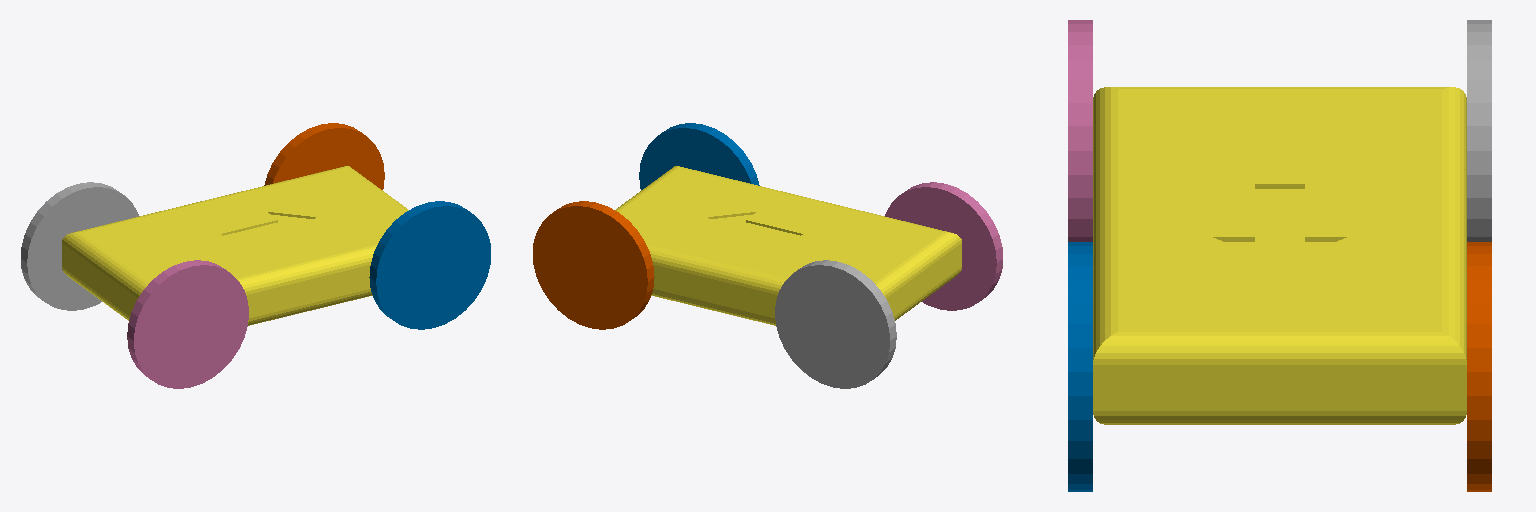
The robot description file, URDF, robot "carwheel_constraint":
<?xml version="1.0" encoding="utf-8"?>
<robot name="carwheel_constraint">

  <link name="world"></link>

  <joint name="virtual_pz_joint" type="prismatic">
      <parent link="world"/>
      <child link="virtual_pz_link"/>
      <origin xyz="0 0 0" rpy="0 0 0"/>
      <axis xyz="0 0 1"/>
      <limit effort="100.0" lower="-10.0" upper="10.0" velocity="1000.0"/>
  </joint>

  <link name="virtual_pz_link">
    <inertial>
      <origin
        xyz="0 0 0"
        rpy="0 0 0" />
      <mass
        value="0.00001" />
      <inertia
        ixx="0.00001"
        ixy="0.0"
        ixz="0.0"
        iyy="0.00001"
        iyz="0.0"
        izz="0.00001" />
    </inertial>
  </link>

  <joint name="virtual_px_joint" type="prismatic">
      <parent link="virtual_pz_link"/>
      <child link="virtual_body"/>
      <origin xyz="0 0 0" rpy="0 0 0"/>
      <axis xyz="1 0 0"/>
      <limit effort="1000.0" lower="-1000.0" upper="1000.0" velocity="1000.0"/>
  </joint>

  <link name="virtual_body">
    <inertial>
      <origin
        xyz="0 0 0"
        rpy="0 0 0" />
      <mass
        value="0.00001" />
      <inertia
        ixx="0.00001"
        ixy="0.0"
        ixz="0.0"
        iyy="0.00001"
        iyz="0.0"
        izz="0.00001" />
    </inertial>
  </link>


  <joint name="virtual_fixed_joint" type="fixed">
      <parent link="virtual_body"/>
      <child link="real_body"/>
  </joint>

  <link name="real_body">
    <inertial>
      <origin
        xyz="0 0 0"
        rpy="0 0 0" />
      <mass
        value="3.94900947494756" />
      <inertia
        ixx="0.00773393995430153"
        ixy="0.0"
        ixz="0.0"
        iyy="0.0207892752411963"
        iyz="0.0"
        izz="0.0275077758026154" />
    </inertial>
    <visual>
      <origin
        xyz="0 0 0"
        rpy="0 0 0" />
      <geometry>
        <mesh filename="package://oatmeal_gazebo/simulation/models/carwheel/meshes/body.STL" />
      </geometry>
    </visual>
    <collision>
      <origin
        xyz="0 0 0"
        rpy="0 0 0" />
      <geometry>
        <mesh filename="package://oatmeal_gazebo/simulation/models/carwheel/meshes/body.STL" />
      </geometry>
    </collision>
  </link>
  <gazebo reference="real_body">
    <material>Gazebo/Orange</material>
  </gazebo>

  <link name="FR">
    <inertial>
      <origin
        xyz="0 0 0"
        rpy="1.5707963267948966 0 0" />
      <mass
        value="0.0482548631591392" />
      <inertia
        ixx="1.97040691233152E-05"
        ixy="0.0"
        ixz="0.0"
        iyy="3.86038905273114E-05"
        iyz="0.0"
        izz="1.97040691233152E-05" />
    </inertial>
    <visual>
      <origin
        xyz="0 0 0"
        rpy="1.5707963267948966 0 0" />
      <geometry>
        <cylinder radius="0.05" length="0.01"/>
        <!-- <mesh filename="package://oatmeal_gazebo/simulation/models/carwheel/meshes/FR.STL" /> -->
      </geometry>
    </visual>
    <collision>
      <origin
        xyz="0 0 0"
        rpy="1.5707963267948966 0 0" />
      <geometry>
        <cylinder radius="0.051" length="0.0001"/>
      </geometry>
    </collision>
  </link>
  <gazebo reference="FR">
    <material>Gazebo/Blue</material>
  </gazebo>

  <joint
    name="Joint_FR"
    type="revolute">
    <origin
      xyz="0.095 -0.08 0"
      rpy="0 0 0" />
    <parent
      link="real_body" />
    <child
      link="FR" />
    <axis
      xyz="0 1 0" />
    <limit
      lower="-1000000"
      upper="1000000"
      effort="30"
      velocity="20" />
  </joint>
  <gazebo reference="Joint_FR">
    <kp>1.0</kp>
    <kd>1.0</kd>
    <stopCfm>0.8</stopCfm>
    <stopErp>0.5</stopErp>
    <provideFeedback>true</provideFeedback>
    <!-- Important para to enable ft sensor-->
    <disableFixedJointLumping>true</disableFixedJointLumping>
    <implicitSpringDamper>true</implicitSpringDamper>
    <fudgeFactor>0.0</fudgeFactor>
  </gazebo>

  <link name="FL">
    <inertial>
      <origin
        xyz="0 0 0"
        rpy="0 0 0" />
      <mass
        value="0.0482548631591393" />
      <inertia
        ixx="1.97040691233152E-05"
        ixy="0.0"
        ixz="0.0"
        iyy="3.86038905273114E-05"
        iyz="0.0"
        izz="1.97040691233152E-05" />
    </inertial>
    <visual>
      <origin
        xyz="0 0 0"
        rpy="1.5707963267948966 0 0" />
      <geometry>
        <cylinder radius="0.05" length="0.01"/>
        <!-- <mesh filename="package://oatmeal_gazebo/simulation/models/carwheel/meshes/FL.STL" /> -->
      </geometry>
    </visual>
    <collision>
      <origin
        xyz="0 0 0"
        rpy="1.5707963267948966 0 0" />
      <geometry>
        <cylinder radius="0.051" length="0.0001"/>
      </geometry>
    </collision>
  </link>
  <gazebo reference="FL">
    <material>Gazebo/Green</material>
  </gazebo>

  <joint name="Joint_FL"
    type="revolute">
    <origin
      xyz="0.095 0.08 0"
      rpy="0 0 0" />
    <parent
      link="real_body" />
    <child
      link="FL" />
    <axis
      xyz="0 1 0" />
    <limit
      lower="-1000000"
      upper="1000000"
      effort="30"
      velocity="20" />
  </joint>
  <gazebo reference="Joint_FL">
    <kp>1.0</kp>
    <kd>1.0</kd>
    <stopCfm>0.8</stopCfm>
    <stopErp>0.5</stopErp>
    <provideFeedback>true</provideFeedback>
    <!-- Important para to enable ft sensor-->
    <disableFixedJointLumping>true</disableFixedJointLumping>
    <implicitSpringDamper>true</implicitSpringDamper>
    <fudgeFactor>0.0</fudgeFactor>
  </gazebo>

  <link name="HR">
    <inertial>
      <origin
        xyz="0 0 0"
        rpy="0 0 0" />
      <mass
        value="0.0482548631591392" />
      <inertia
        ixx="1.97040691233152E-05"
        ixy="0.0"
        ixz="0.0"
        iyy="3.86038905273114E-05"
        iyz="0.0"
        izz="1.97040691233152E-05" />
    </inertial>
    <visual>
      <origin
        xyz="0 0 0"
        rpy="1.5707963267948966 0 0" />
      <geometry>
        <cylinder radius="0.05" length="0.01"/>/
        <!-- <mesh filename="package://oatmeal_gazebo/simulation/models/carwheel/meshes/HR.STL" /> -->
      </geometry>
    </visual>
    <collision>
      <origin
        xyz="0 0 0"
        rpy="1.5707963267948966 0 0" />
      <geometry>
        <cylinder radius="0.051" length="0.0001"/>
      </geometry>
    </collision>
  </link>
  <gazebo reference="HR">
    <material>Gazebo/Yellow</material>
  </gazebo>

  <joint name="Joint_HR"
    type="revolute">
    <origin
      xyz="-0.115 -0.08 0"
      rpy="0 0 0" />
    <parent
      link="real_body" />
    <child
      link="HR" />
    <axis
      xyz="0 1 0" />
    <limit
      lower="-1000000"
      upper="1000000"
      effort="30"
      velocity="20" />
  </joint>
  <gazebo reference="Joint_HR">
    <kp>1.0</kp>
    <kd>1.0</kd>
    <stopCfm>0.8</stopCfm>
    <stopErp>0.5</stopErp>
    <provideFeedback>true</provideFeedback>
    <!-- Important para to enable ft sensor-->
    <disableFixedJointLumping>true</disableFixedJointLumping>
    <implicitSpringDamper>true</implicitSpringDamper>
    <fudgeFactor>0.0</fudgeFactor>
  </gazebo>

  <link name="HL">
    <inertial>
      <origin
        xyz="0 0 0"
        rpy="1.5707963267948966 0 0" />
      <mass
        value="0.0482548631591393" />
      <inertia
        ixx="1.97040691233152E-05"
        ixy="0.0"
        ixz="0.0"
        iyy="3.86038905273114E-05"
        iyz="0.0"
        izz="1.97040691233152E-05" />
    </inertial>
    <visual>
      <origin
        xyz="0 0 0"
        rpy="1.5707963267948966 0 0" />
      <geometry>
        <cylinder radius="0.05" length="0.01"/>
      </geometry>
    </visual>
    <collision>
      <origin
        xyz="0 0 0"
        rpy="1.5707963267948966 0 0" />
      <geometry>
        <cylinder radius="0.051" length="0.0001"/>
      </geometry>
    </collision>
  </link>
  <gazebo reference="HL">
    <material>Gazebo/Red</material>
  </gazebo>

  <joint name="Joint_HL"
    type="revolute">
    <origin
      xyz="-0.115 0.08 0"
      rpy="0 0 0" />
    <parent
      link="real_body" />
    <child
      link="HL" />
    <axis
      xyz="0 1 0" />
    <limit
      lower="-1000000"
      upper="1000000"
      effort="30"
      velocity="20" />
  </joint>
  <gazebo reference="Joint_HL">
    <kp>1.0</kp>
    <kd>1.0</kd>
    <stopCfm>0.8</stopCfm>
    <stopErp>0.5</stopErp>
    <provideFeedback>true</provideFeedback>
    <!-- Important para to enable ft sensor-->
    <disableFixedJointLumping>true</disableFixedJointLumping>
    <implicitSpringDamper>true</implicitSpringDamper>
    <fudgeFactor>0.0</fudgeFactor>
  </gazebo>
</robot>

--- Facts derived from the render (not from the file) ---
Views: 3 orthographic renders of the robot side by side, from view 1: azimuth 30°, elevation 25°; view 2: azimuth 150°, elevation 25°; view 3: azimuth 270°, elevation 25°.
Model carwheel_constraint with 8 links and 7 joints (4 revolute, 2 prismatic, 1 fixed), rooted at world, posed every joint at zero.
Visible links, largest first — view 1: real_body, FR, HR, HL, FL; view 2: real_body, FL, HL, HR, FR; view 3: real_body, FR, FL, HR, HL.
Link boxes in pixels (left/top/right/bottom): real_body: left=62, top=166, right=408, bottom=325; FR: left=369, top=201, right=490, bottom=329; HR: left=127, top=260, right=248, bottom=388; HL: left=21, top=182, right=138, bottom=310; FL: left=264, top=123, right=384, bottom=189; real_body: left=615, top=166, right=961, bottom=325; FL: left=533, top=201, right=654, bottom=329; HL: left=775, top=260, right=896, bottom=388; HR: left=885, top=182, right=1002, bottom=310; FR: left=639, top=123, right=759, bottom=189; real_body: left=1093, top=87, right=1466, bottom=424; FR: left=1068, top=242, right=1092, bottom=491; FL: left=1467, top=242, right=1491, bottom=491; HR: left=1068, top=20, right=1092, bottom=241; HL: left=1467, top=20, right=1491, bottom=241.
Size in the robot's own frame: 0.31 by 0.17 by 0.1 metres.
1 mesh visuals loaded from 1 distinct referenced files (1 binary STL).